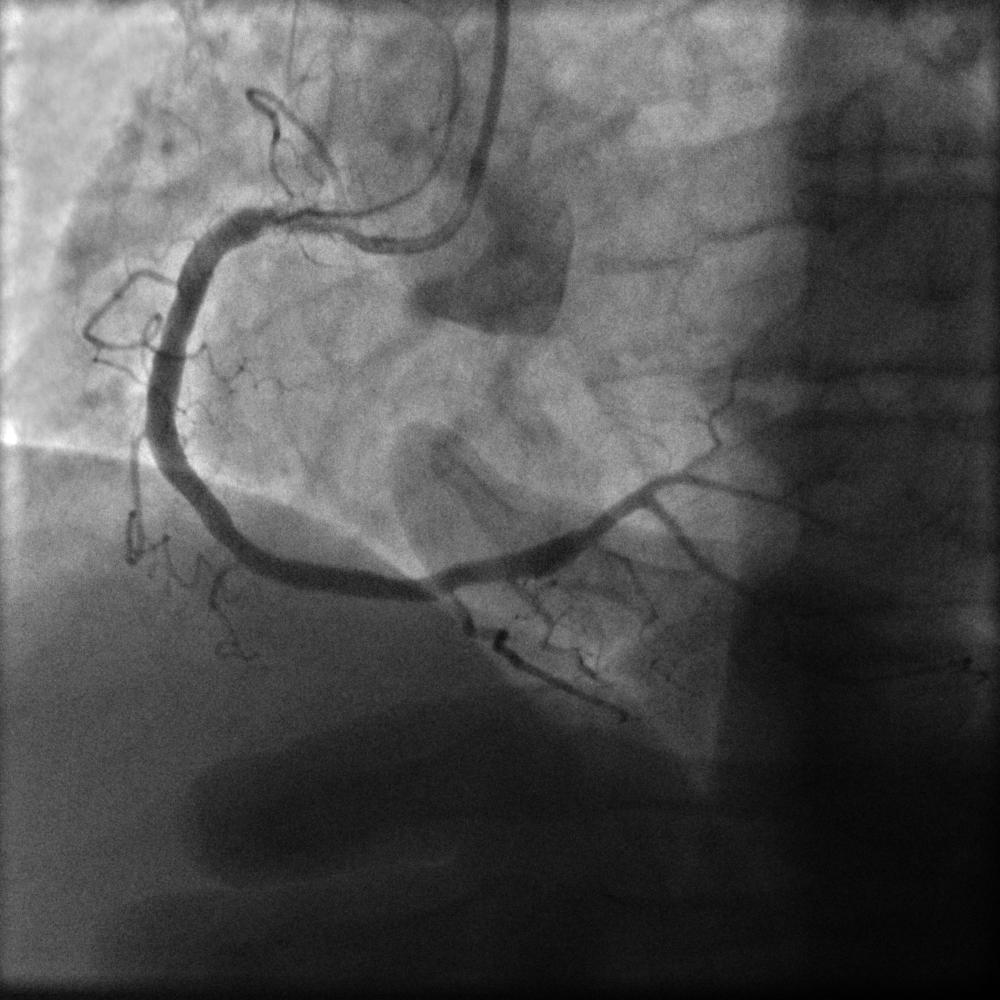Stenosis: (248, 197, 339, 235)
